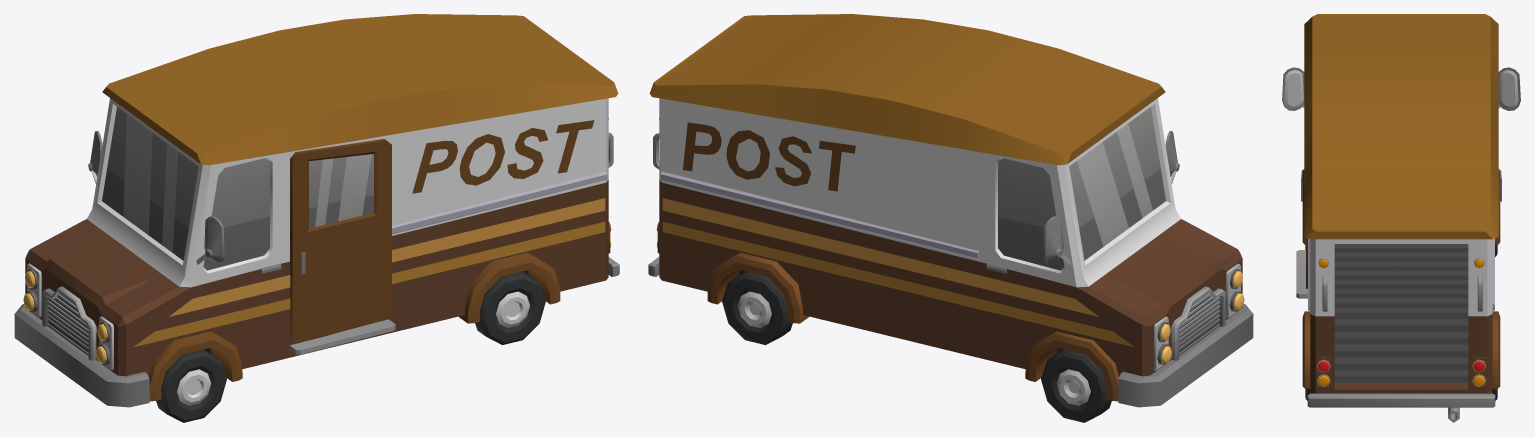
The model's file is PostCar_2_F.fbx.
3 renders of one model, left to right at view 1: azimuth 30°, elevation 25°; view 2: azimuth 150°, elevation 25°; view 3: azimuth 270°, elevation 25°, orthographic. The views are drawn at different scales.
Visible parts, largest first — view 1: PostCar_2_F, FL, RL; view 2: PostCar_2_F, FR, RR; view 3: PostCar_2_F.
Part boxes in pixels (bbox=[...]): PostCar_2_F: bbox=[14, 14, 619, 407]; FL: bbox=[156, 349, 226, 422]; RL: bbox=[475, 271, 545, 344]; PostCar_2_F: bbox=[648, 14, 1253, 407]; FR: bbox=[1041, 349, 1111, 422]; RR: bbox=[722, 271, 792, 344]; PostCar_2_F: bbox=[1282, 14, 1520, 422].
Size of the model in its own units: 4.14 by 2.11 by 1.8.
